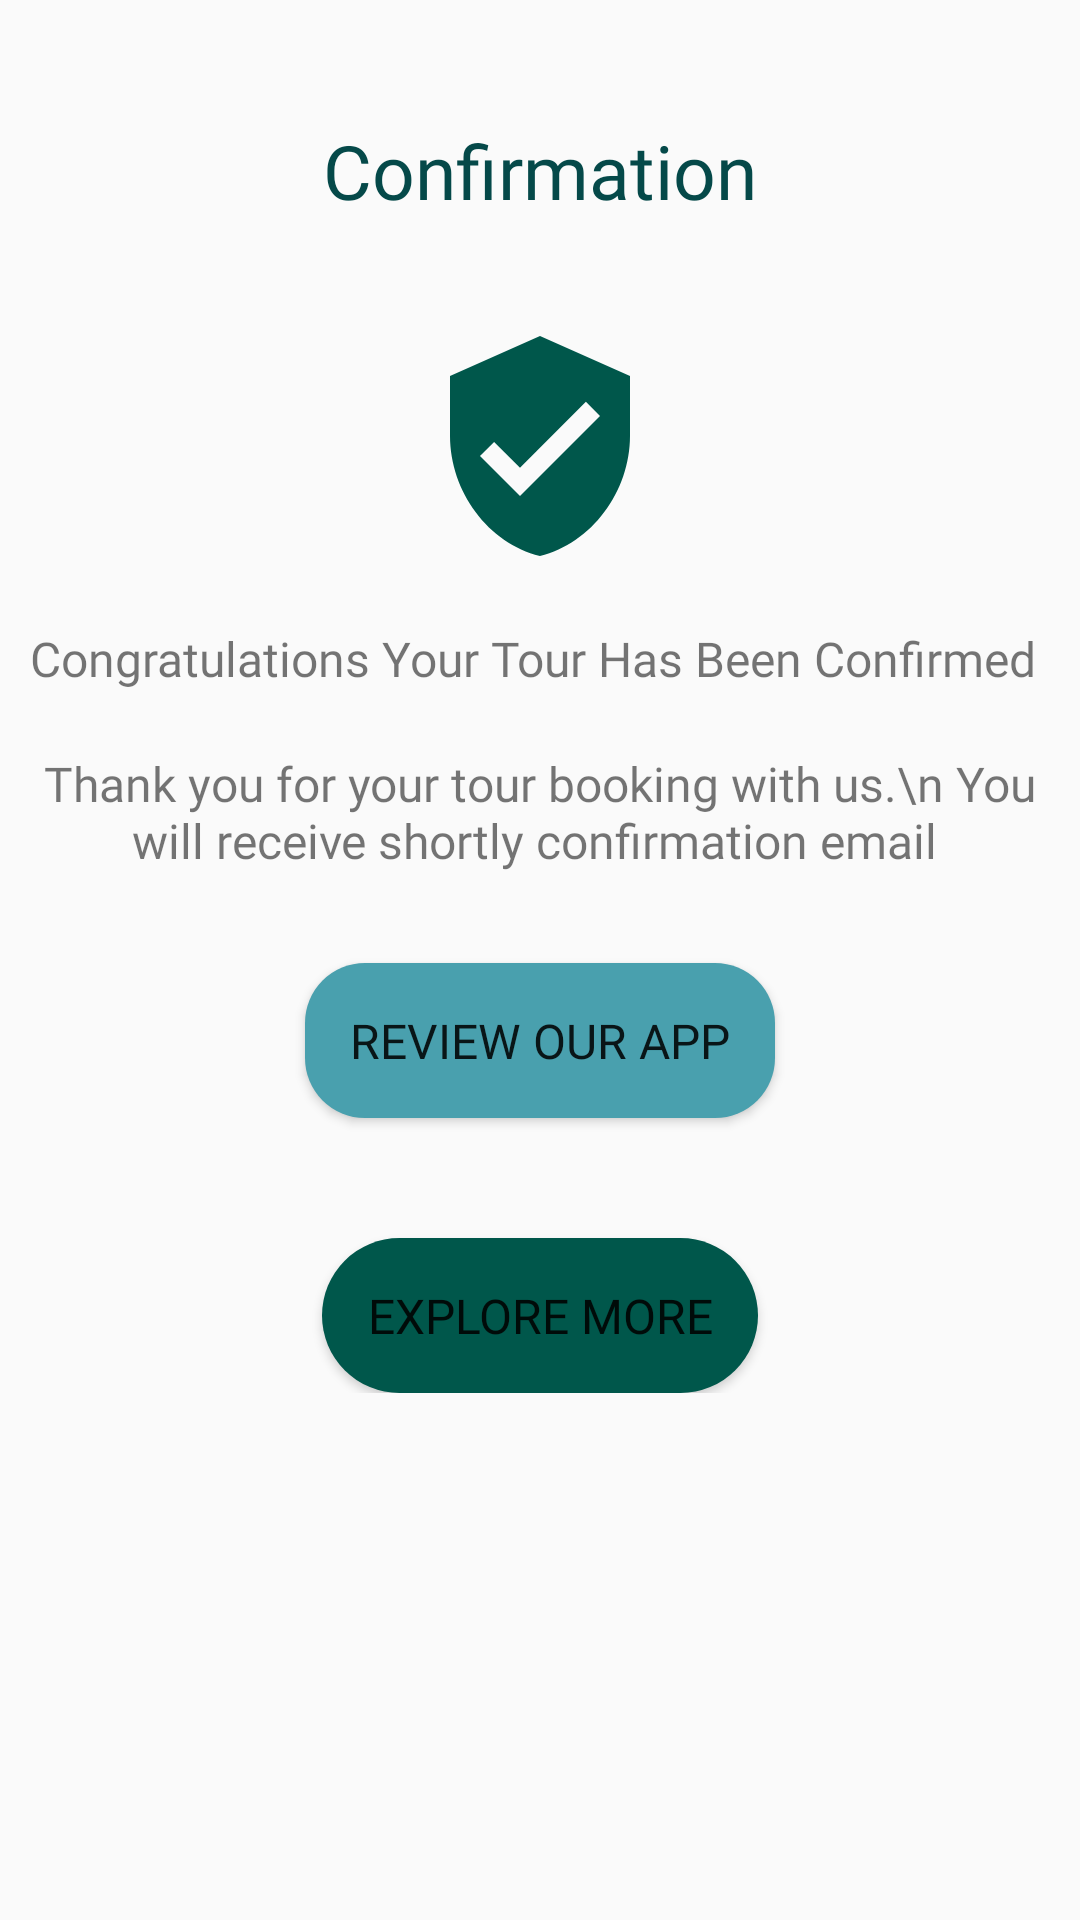

Point at icon controls on the screen. Image size 1080w x 1920h, points as (x=x, y=y).
verified user: (x=540, y=446)
